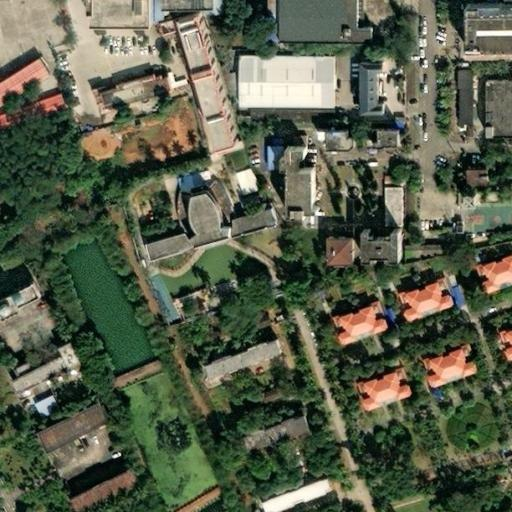building: (176, 24, 237, 163), (229, 54, 326, 109), (33, 404, 104, 450), (202, 340, 277, 383), (65, 470, 138, 512), (96, 73, 166, 112), (463, 4, 512, 52), (276, 147, 310, 216), (74, 117, 122, 165), (330, 307, 384, 349), (0, 94, 62, 130), (180, 193, 221, 247), (241, 418, 302, 454), (421, 350, 471, 391), (10, 357, 65, 394), (107, 352, 163, 388), (399, 283, 448, 324), (357, 374, 407, 414), (262, 480, 324, 512), (0, 59, 45, 98), (130, 231, 186, 262), (241, 0, 278, 46), (360, 61, 387, 118), (483, 86, 512, 138), (475, 256, 512, 296), (196, 182, 225, 230), (239, 108, 325, 124), (219, 207, 260, 236), (325, 229, 353, 269), (356, 230, 392, 261), (169, 193, 191, 238), (23, 392, 54, 420), (401, 237, 444, 257), (451, 74, 467, 127), (317, 132, 354, 154), (56, 345, 82, 375), (226, 169, 253, 195), (378, 187, 394, 228), (14, 287, 39, 310), (497, 329, 512, 363), (169, 174, 194, 191), (379, 133, 401, 152), (9, 361, 31, 380), (388, 290, 405, 313), (376, 307, 391, 332), (463, 170, 484, 187), (387, 367, 403, 389), (364, 300, 380, 322), (451, 343, 467, 365), (261, 147, 276, 170), (441, 286, 456, 308), (355, 0, 366, 29), (324, 315, 339, 336), (350, 382, 364, 403), (430, 277, 444, 298), (469, 263, 483, 284), (414, 358, 428, 379), (490, 330, 504, 351), (480, 0, 512, 4), (263, 139, 276, 147), (507, 249, 512, 264)
